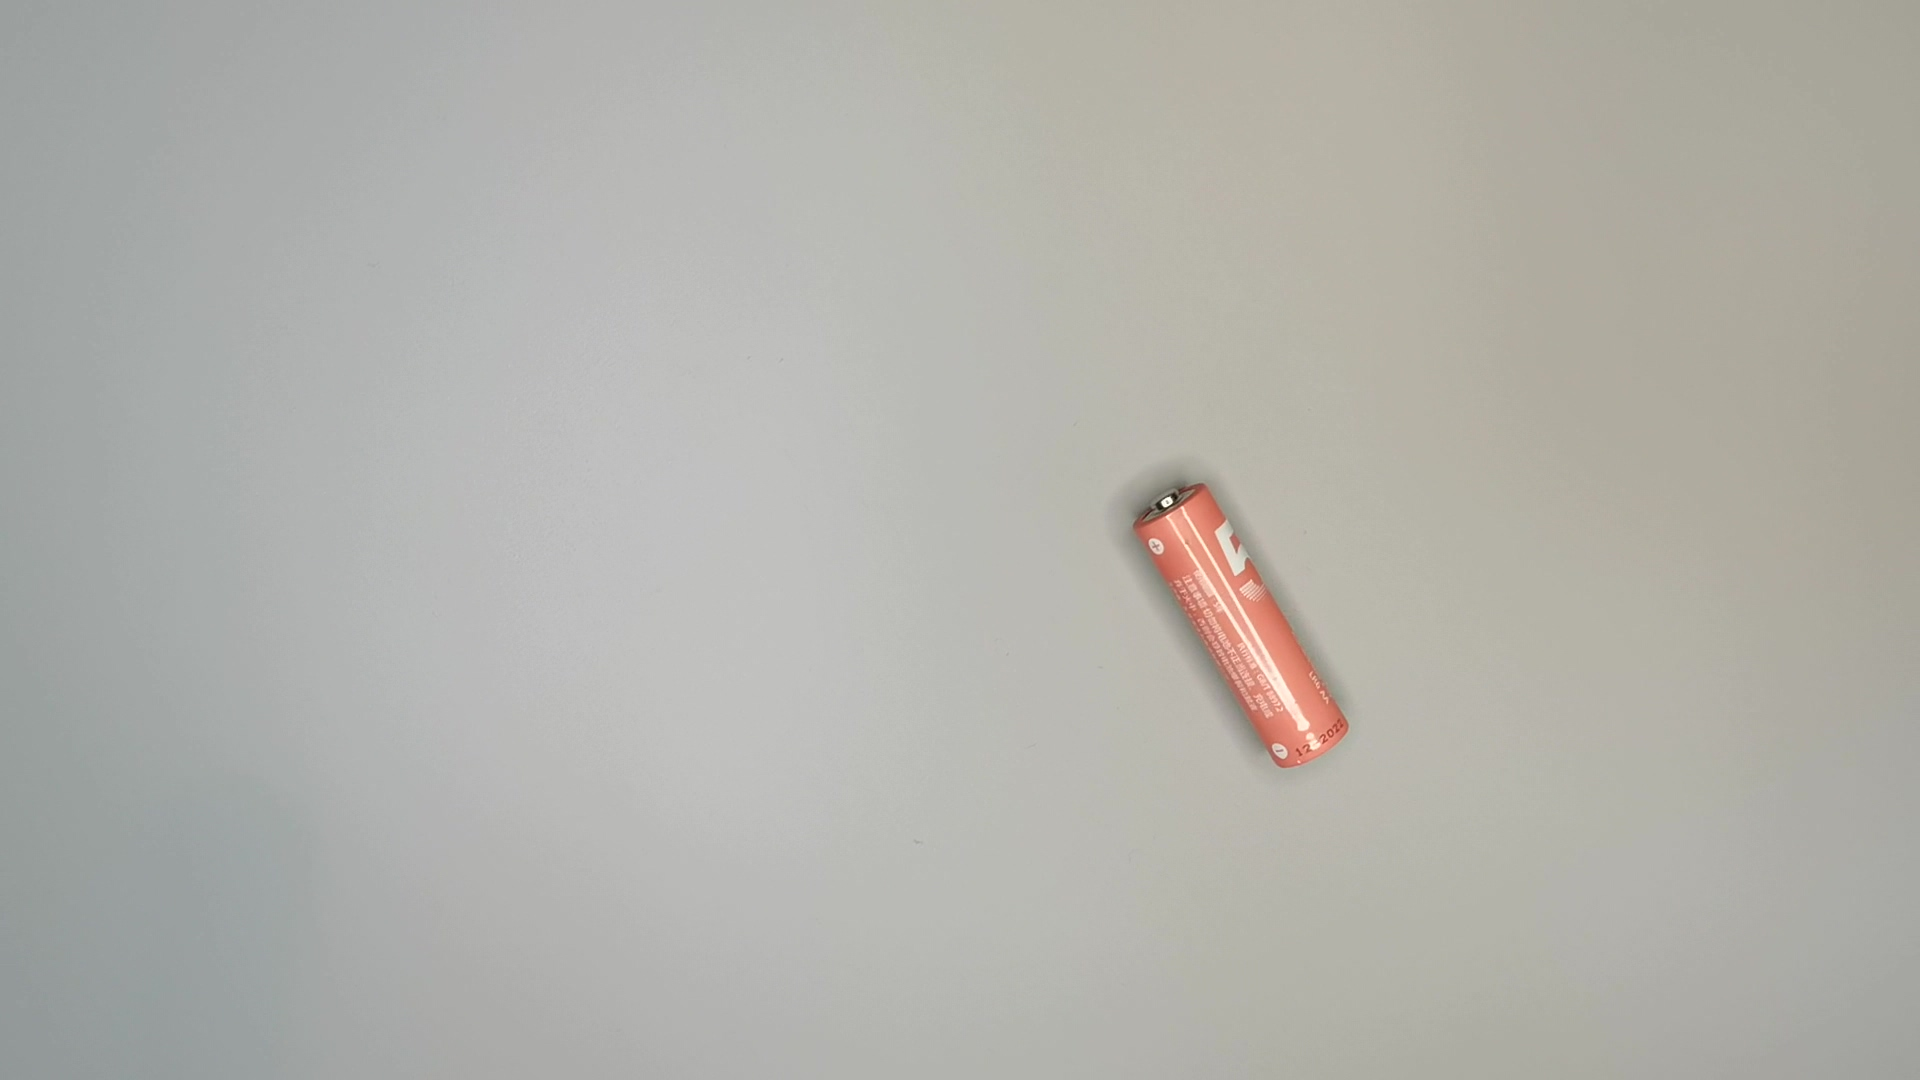battery: (1129, 477, 1356, 775)
